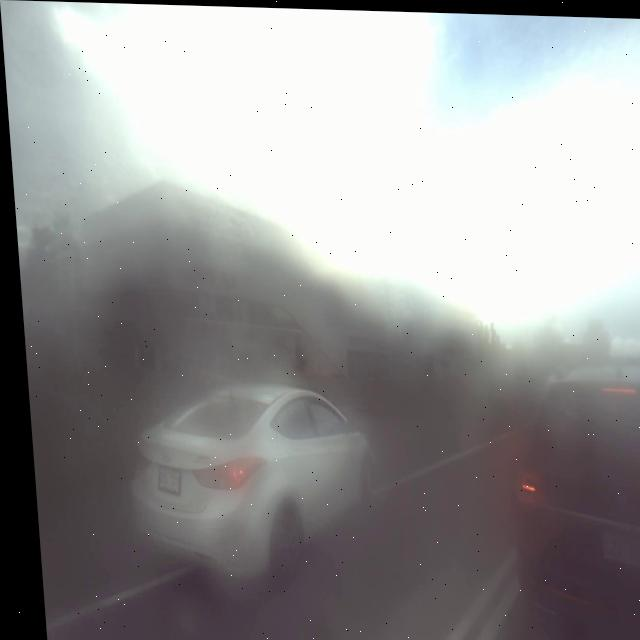car: (112, 333, 381, 592)
